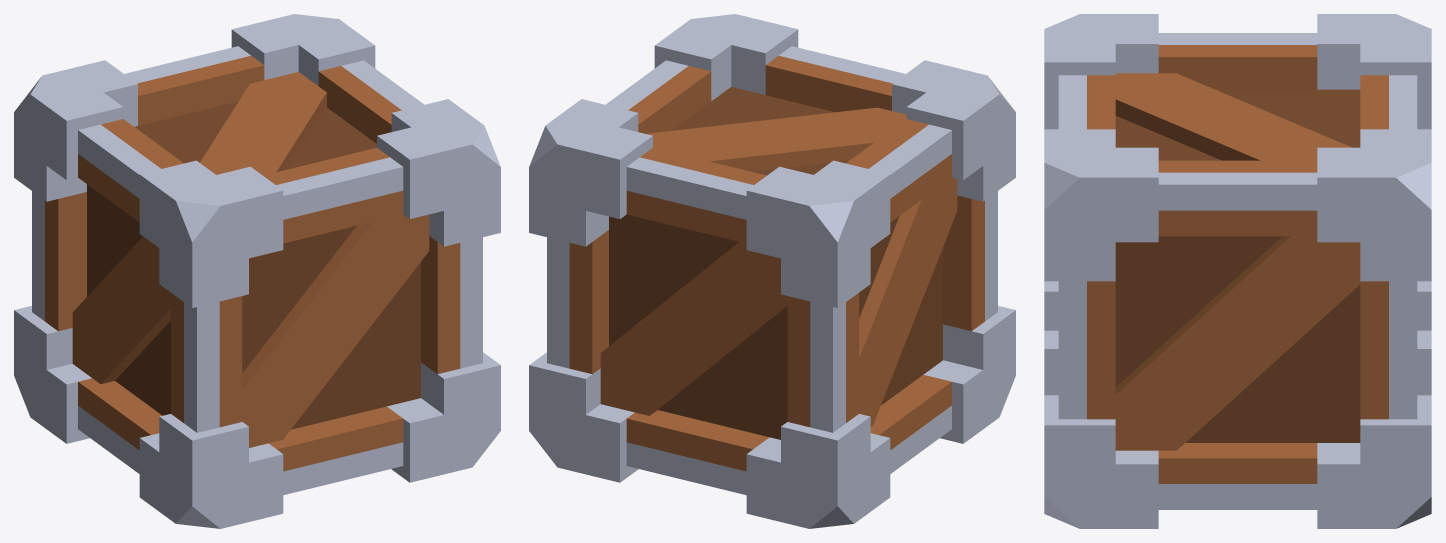
Rendered from crateStrong.glb.
The picture shows the model from 3 angles, left to right: view 1: azimuth 30°, elevation 25°; view 2: azimuth 150°, elevation 25°; view 3: azimuth 270°, elevation 25°; orthographic projection. The views are drawn at different scales.
Visible parts, largest first — view 1: crateStrong; view 2: crateStrong; view 3: crateStrong.
Boxes of the visible parts, bbox=[...] form: crateStrong: bbox=[14, 14, 500, 528]; crateStrong: bbox=[529, 14, 1015, 528]; crateStrong: bbox=[1044, 14, 1431, 528].
Bounding box in the file's own units: 0.54 × 0.54 × 0.54.
